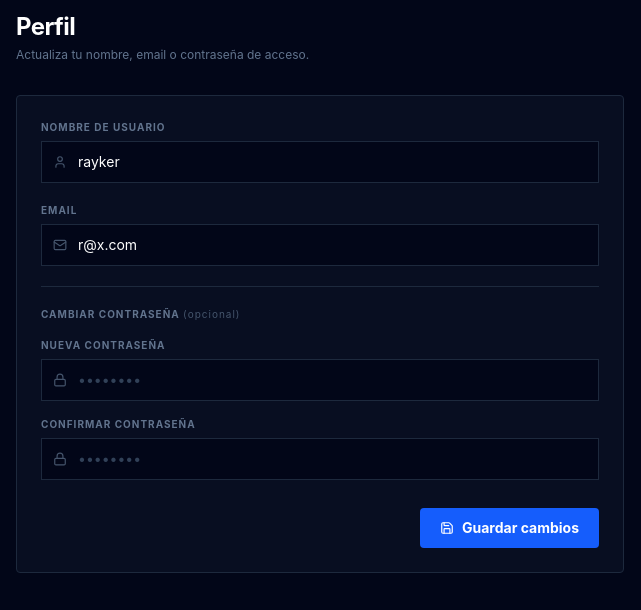
Test: ProfileSettings › error inline "No coinciden" cuando password !== confirm mientras se escribe
The image size is (641, 610).
Expected: the field showing "rayker" below "Nombre de usuario" is shown, [41, 141, 599, 183]
In the password field with placeholder "••••••••" below "Nueva contraseña": coordinates (320, 380) [41, 359, 599, 401], type "abc123"
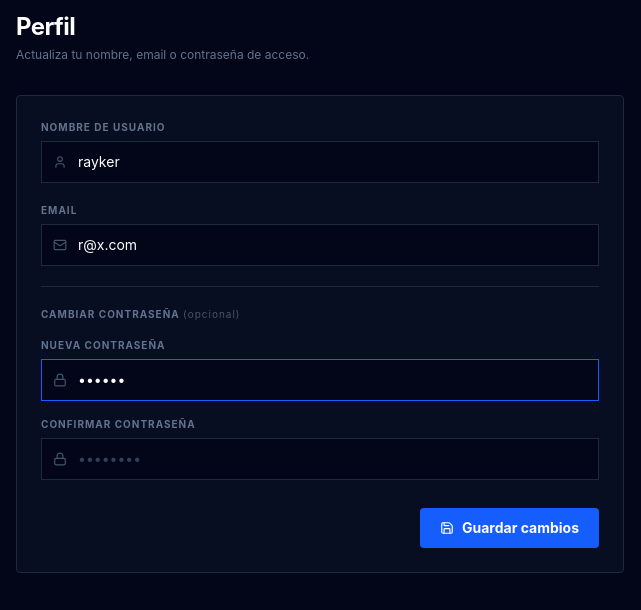
In the password field with placeholder "••••••••": coordinates (320, 459) [41, 438, 599, 480], type "diferente"
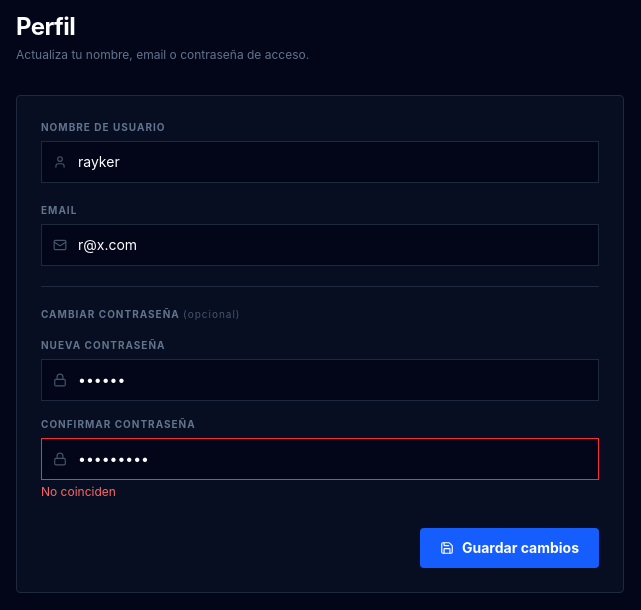
Result: the text "No coinciden" is shown at [41, 484, 116, 499]
